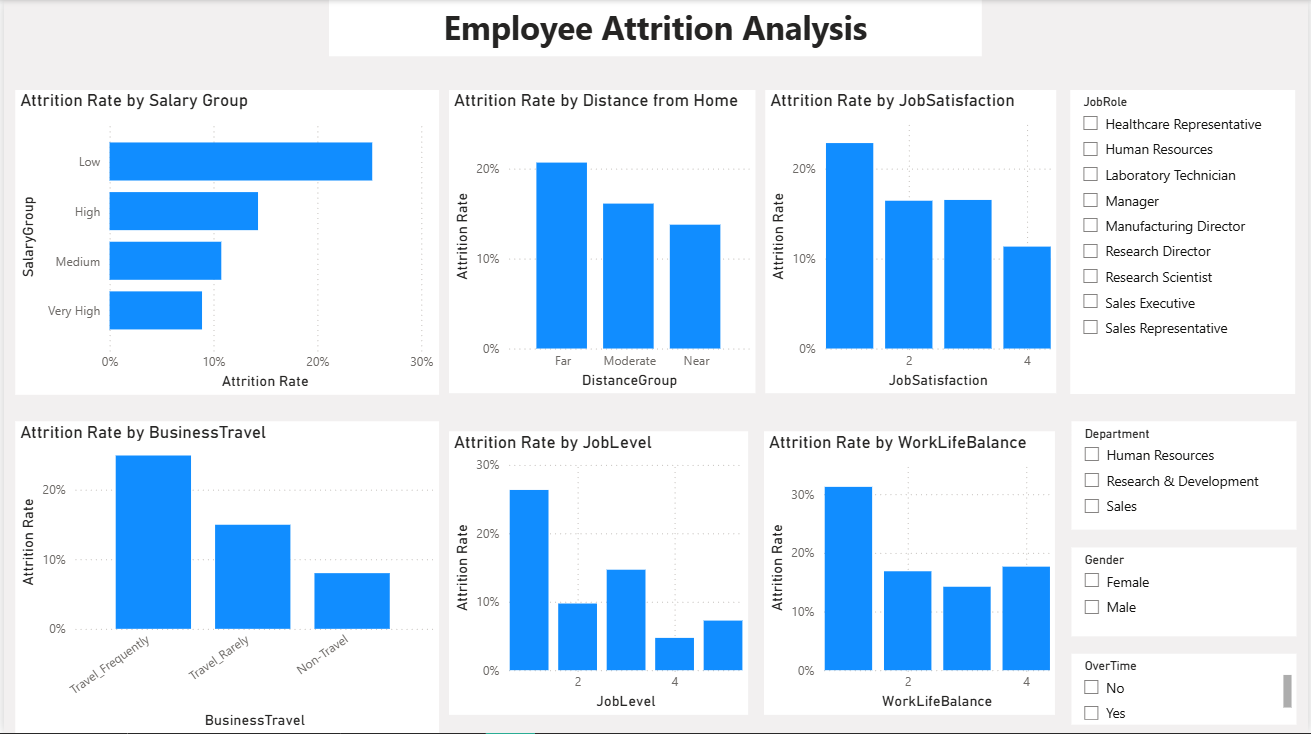

Layout of this report page (visuals, bound fields, positions):
{"tool":"powerbi","page":{"name":"HR Deep Dive","canvas":[1280,720],"ordinal":1},"visuals":[{"type":"textbox","box":[319,0,640.5,55.2],"z":0},{"type":"barChart","title":"Attrition Rate by Salary Group","fields":{"Category":["HR_Employees.SalaryGroup"],"Y":["HR_Employees.Attrition Rate"]},"box":[11.5,88.4,415.8,299.1],"z":1000},{"type":"columnChart","title":"Attrition Rate by Distance from Home","fields":{"Category":["HR_Employees.DistanceGroup"],"Y":["HR_Employees.Attrition Rate"]},"box":[436.9,88.4,300.5,297.8],"z":2000},{"type":"columnChart","fields":{"Category":["HR_Employees.JobSatisfaction"],"Y":["HR_Employees.Attrition Rate"]},"box":[747,88.4,285.4,297.8],"z":3000},{"type":"columnChart","fields":{"Y":["HR_Employees.Attrition Rate"],"Category":["HR_Employees.WorkLifeBalance"]},"box":[746,423.3,285.9,278.5],"z":4000},{"type":"columnChart","fields":{"Y":["HR_Employees.Attrition Rate"],"Category":["HR_Employees.JobLevel"]},"box":[436.8,423.3,293.3,278.5],"z":5000},{"type":"columnChart","fields":{"Category":["HR_Employees.BusinessTravel"],"Y":["HR_Employees.Attrition Rate"]},"box":[11,413.5,416,306.8],"z":6000},{"type":"slicer","fields":{"Values":["HR_Employees.Department"]},"box":[1047.9,413.5,220.9,106.7],"z":7000},{"type":"slicer","fields":{"Values":["HR_Employees.JobRole"]},"box":[1046.6,88.3,220.9,298.2],"z":8000},{"type":"slicer","fields":{"Values":["HR_Employees.Gender"]},"box":[1047.9,537.4,220.9,87.1],"z":9000},{"type":"slicer","fields":{"Values":["HR_Employees.OverTime"]},"box":[1047.9,641.7,220.9,69.9],"z":10000}]}

Visuals, with their boxes in screenshot pixels (x1, y1, x2, y2), scaled from the page's 1280x720 canvas onto the 1311x734 screenshot:
textbox: 327, 0, 983, 56
"Attrition Rate by Salary Group" barChart: 12, 90, 438, 395
"Attrition Rate by Distance from Home" columnChart: 447, 90, 755, 394
columnChart - HR_Employees.JobSatisfaction x HR_Employees.Attrition Rate: 765, 90, 1057, 394
columnChart - HR_Employees.Attrition Rate x HR_Employees.WorkLifeBalance: 764, 432, 1057, 715
columnChart - HR_Employees.Attrition Rate x HR_Employees.JobLevel: 447, 432, 748, 715
columnChart - HR_Employees.BusinessTravel x HR_Employees.Attrition Rate: 11, 422, 437, 733
slicer - HR_Employees.Department: 1073, 422, 1300, 530
slicer - HR_Employees.JobRole: 1072, 90, 1298, 394
slicer - HR_Employees.Gender: 1073, 548, 1300, 637
slicer - HR_Employees.OverTime: 1073, 654, 1300, 725
